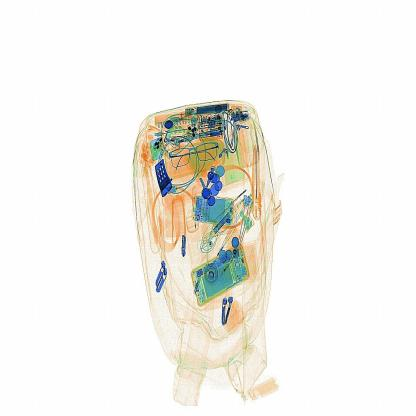pliers: (250, 145, 268, 226)
